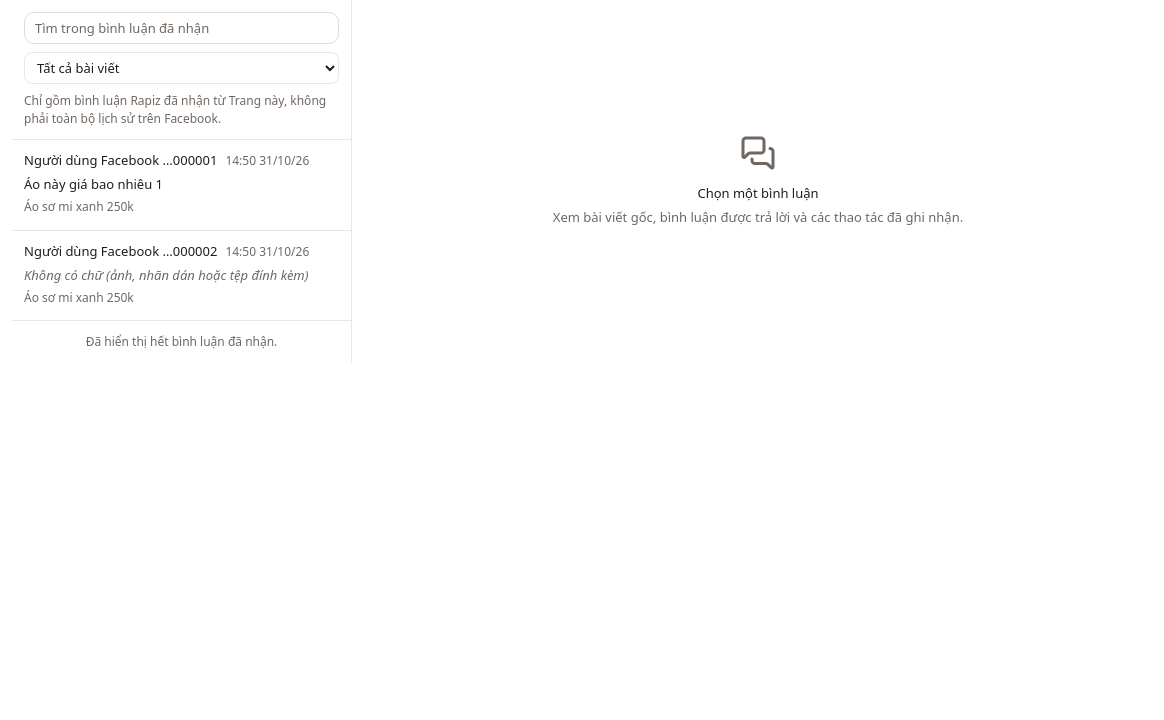
Facebook comments in Inbox › opens the only Page with stored comments, source post and honest scope labels
Expected: the text "không phải toàn bộ lịch sử trên Facebook" is shown, top-left (24, 92), bottom-right (326, 127)
Expected: the text "Không có chữ (ảnh, nhãn dán hoặc tệp đính kèm)" is shown, top-left (24, 265), bottom-right (308, 285)
Click the button with aria-label "Người dùng Facebook …000001: Áo này giá bao nhiêu 1": point(121, 160) top-left (12, 140), bottom-right (351, 231)
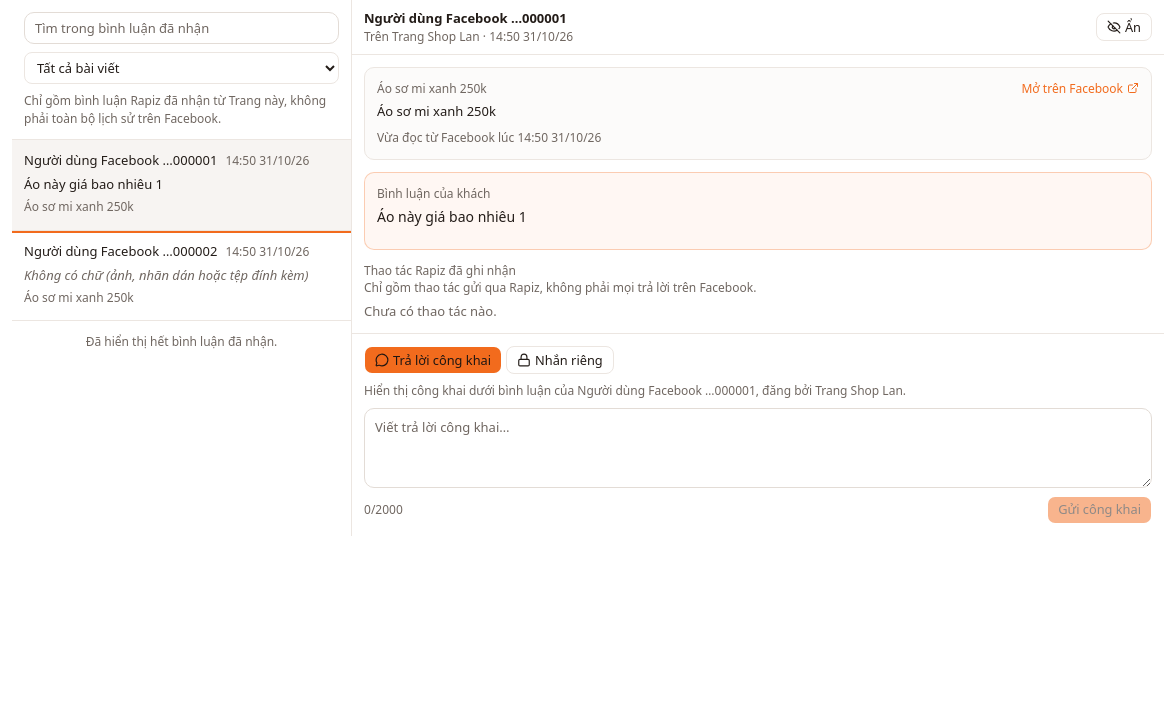
Expected: the text "Vừa đọc từ Facebook lúc 14:50 31/10/26" is shown, top-left (377, 129), bottom-right (601, 146)
Expected: the element named "Bài viết gốc" shows "Áo sơ mi xanh 250k", top-left (377, 80), bottom-right (487, 97)
Expected: the text "không phải mọi trả lời trên Facebook" is shown, top-left (364, 279), bottom-right (756, 296)
